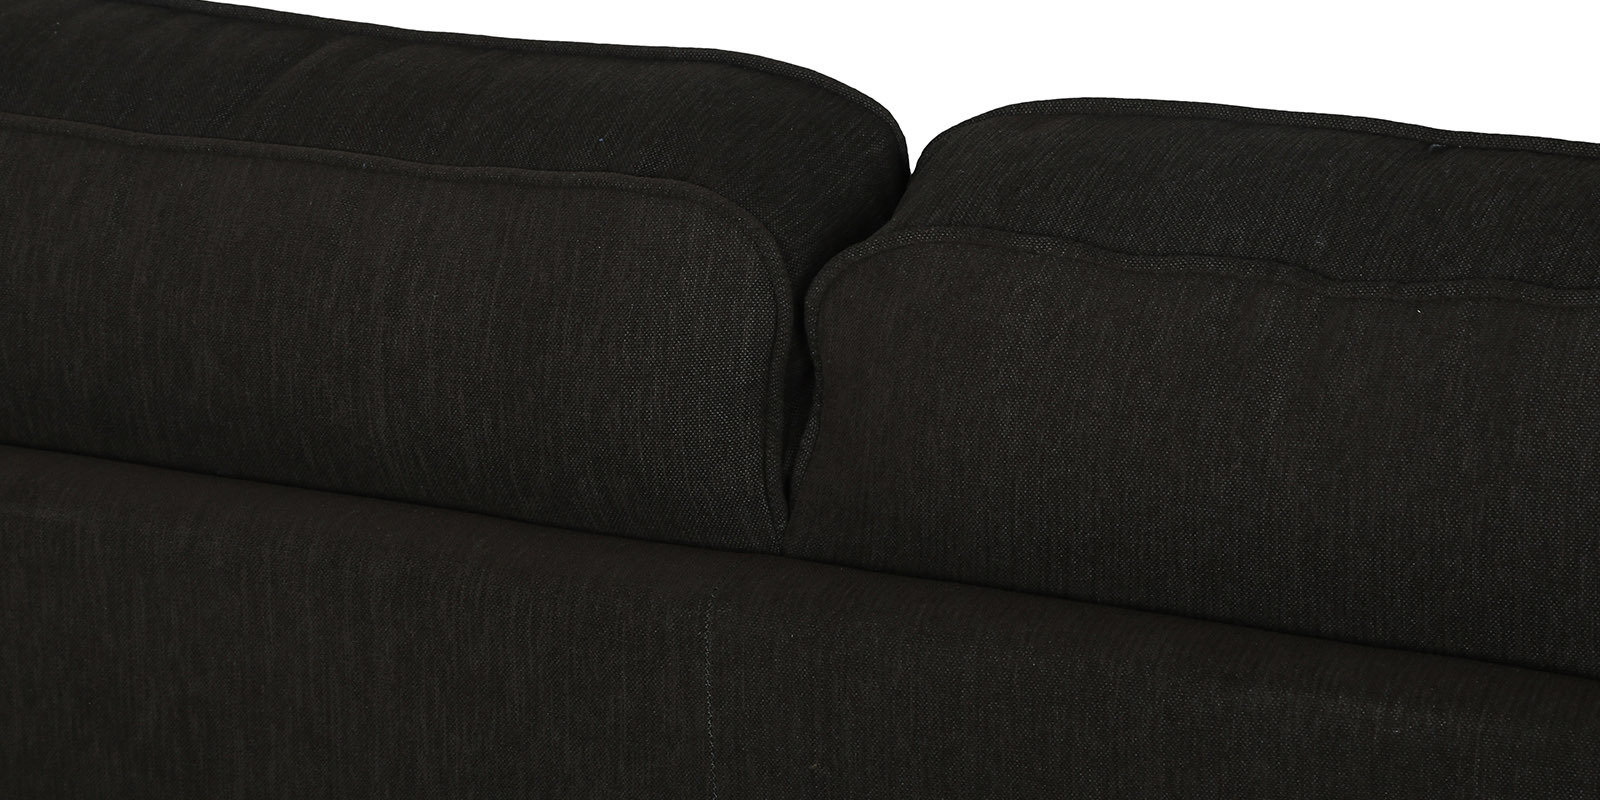Parana Three Seater Sofa in Chestnut Brown Color by CasaCraft: (2, 3, 1587, 798)
